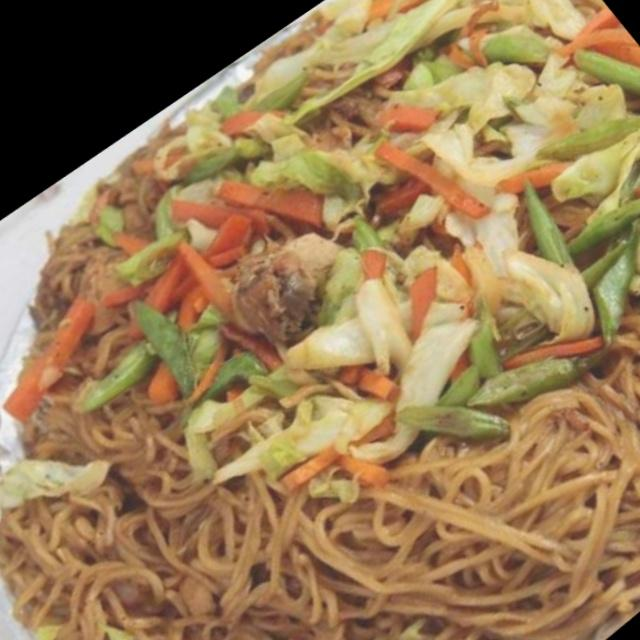pancit bihon: (0, 0, 639, 639)
